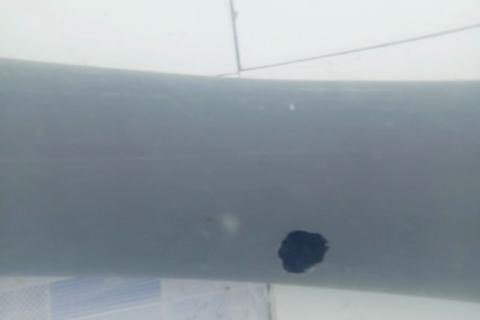kebocoran: (276, 227, 330, 275)
